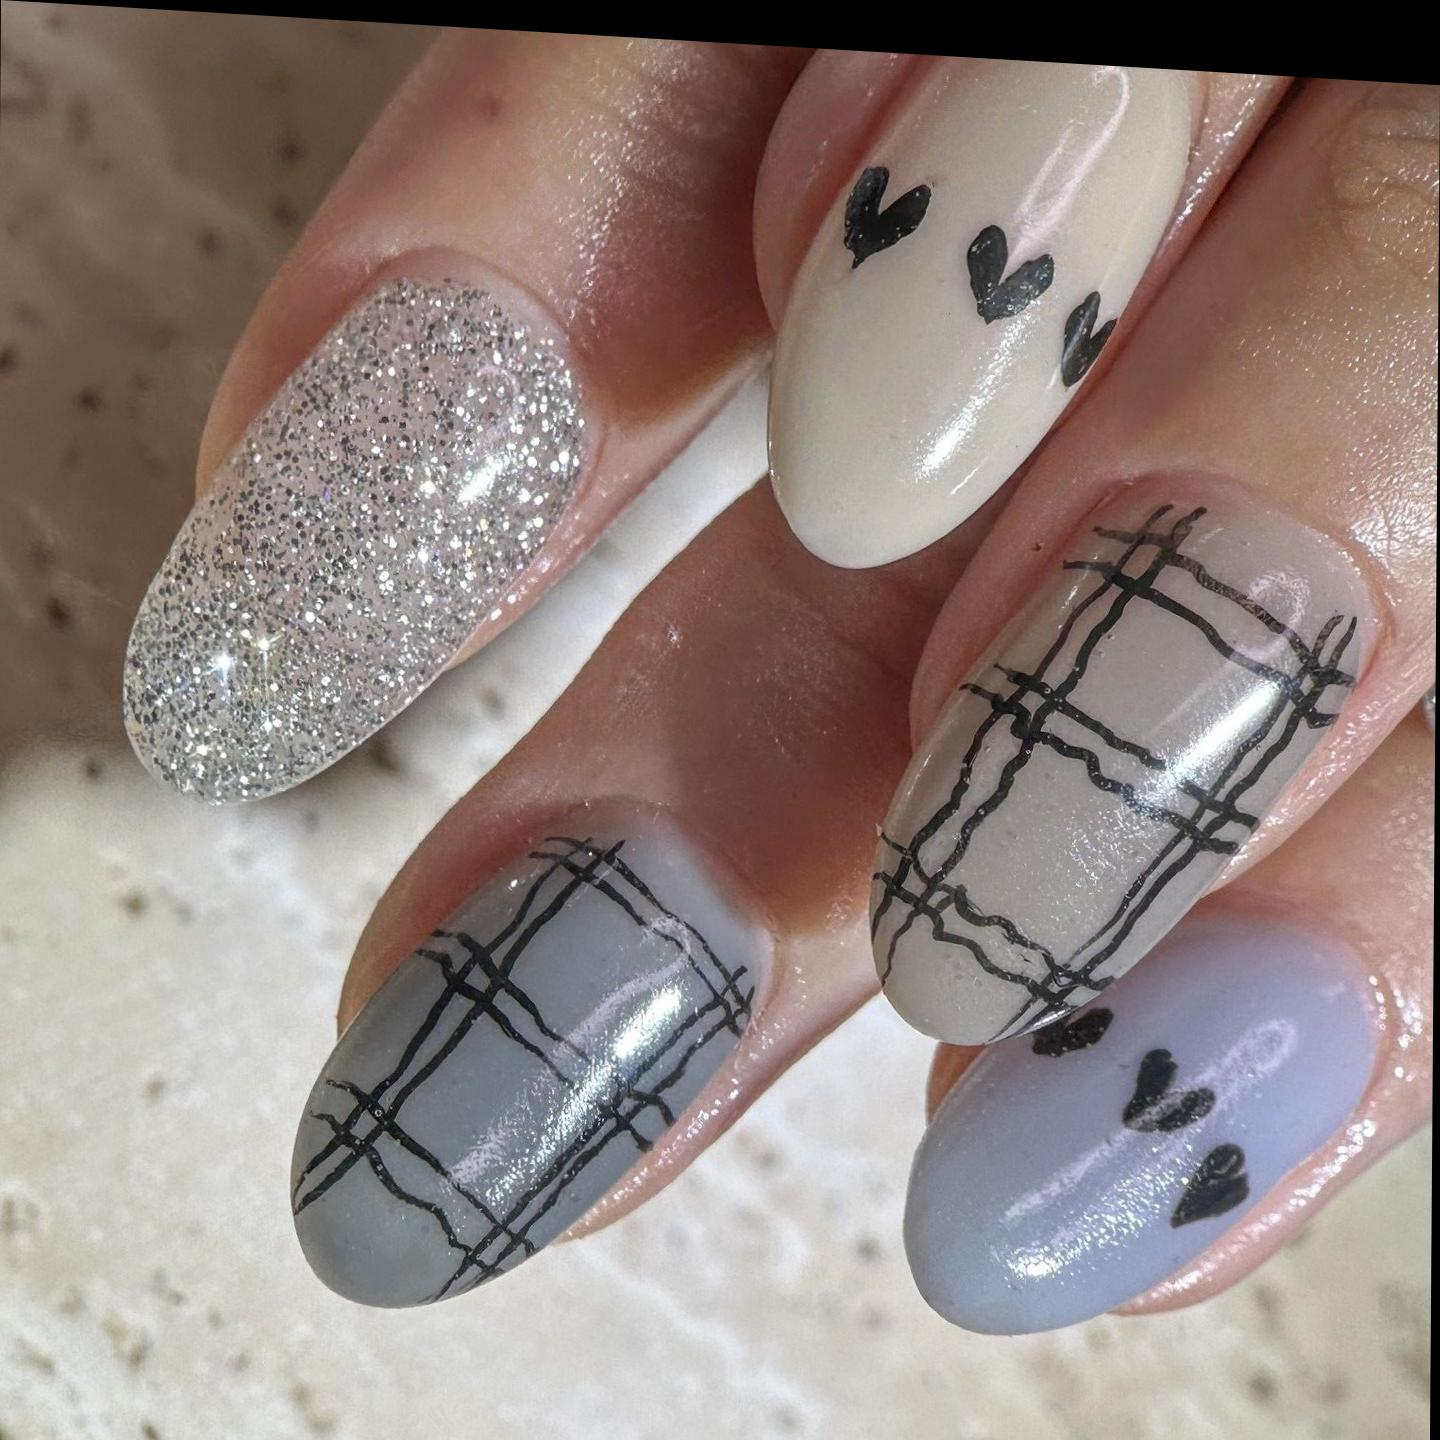nail: (749, 46, 1290, 596), (872, 479, 1373, 1043), (119, 239, 595, 827), (287, 800, 781, 1333), (903, 907, 1383, 1335)
